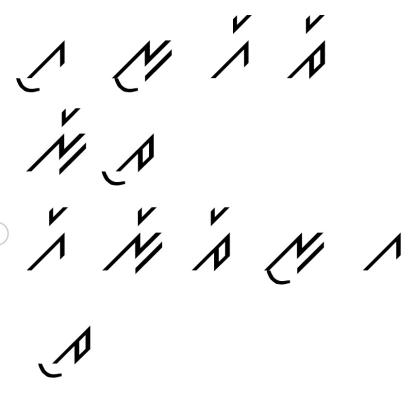ga: (354, 226, 404, 276)
gar: (198, 13, 256, 88), (24, 201, 72, 273)
gaw: (16, 29, 71, 97)
ngar: (26, 105, 90, 175), (104, 208, 166, 278)
ngaw: (110, 34, 178, 97), (261, 226, 326, 289)
tar: (191, 199, 237, 275), (288, 14, 335, 82)
taw: (26, 309, 98, 385), (99, 127, 158, 191)
